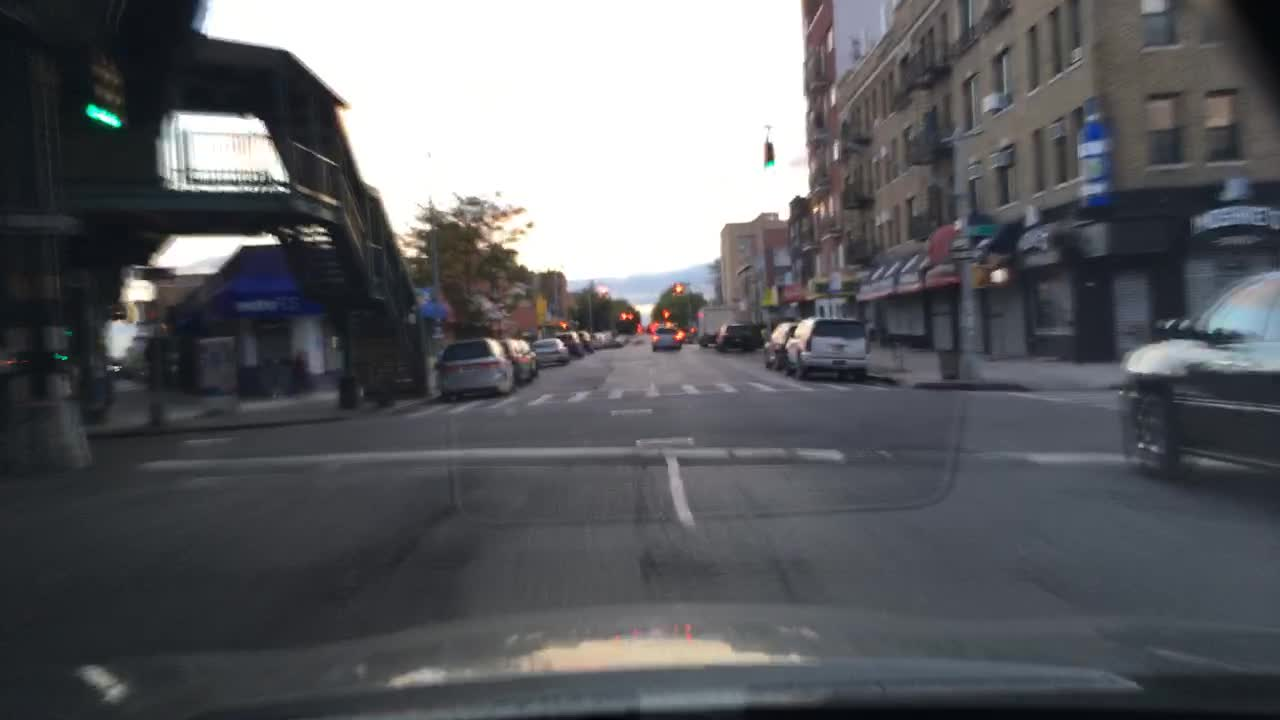car: (1117, 266, 1279, 476), (432, 338, 511, 404), (787, 319, 869, 380), (715, 320, 766, 356), (765, 319, 796, 370), (502, 339, 531, 387), (533, 335, 571, 365), (646, 322, 685, 350), (514, 338, 542, 376), (552, 330, 583, 358), (577, 328, 594, 354), (680, 321, 693, 342), (592, 331, 606, 348), (606, 330, 618, 349), (616, 328, 627, 347), (634, 327, 644, 345)
person: (143, 317, 174, 395)
traffic light: (80, 51, 127, 126), (973, 265, 1006, 288), (763, 141, 775, 170), (675, 279, 685, 295)
traffic sign: (963, 221, 1003, 238), (947, 246, 986, 259)
truck: (698, 304, 735, 349)
